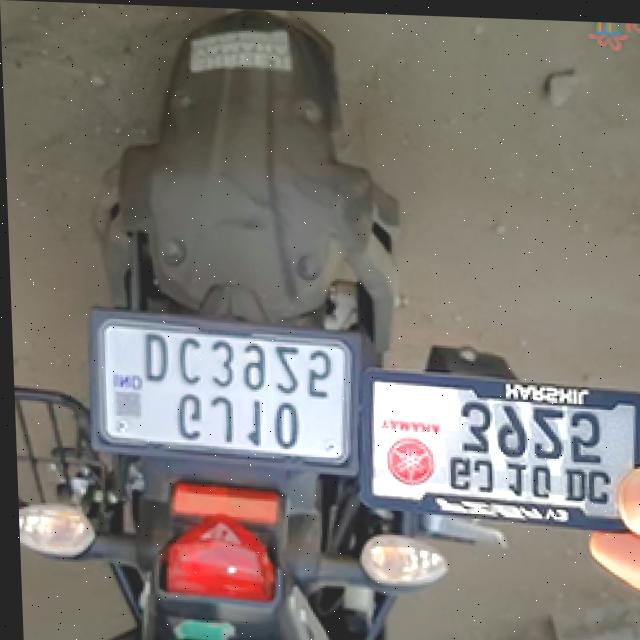plate: (349, 356, 640, 537), (83, 312, 353, 474)
